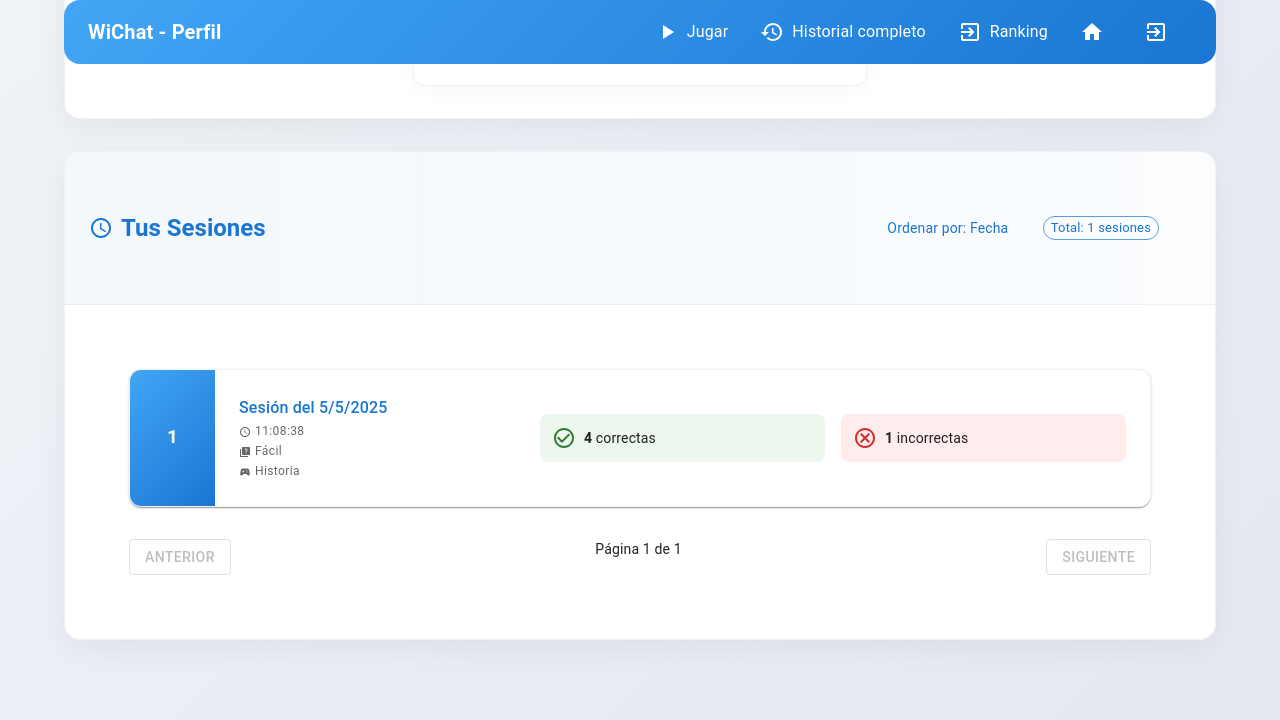
Profile Component › renders session list and details dialog
(page scrolled)
Step 1. Click the heading "Sesión del 5/5/2025" → (313,407), box 239,398 -> 387,417
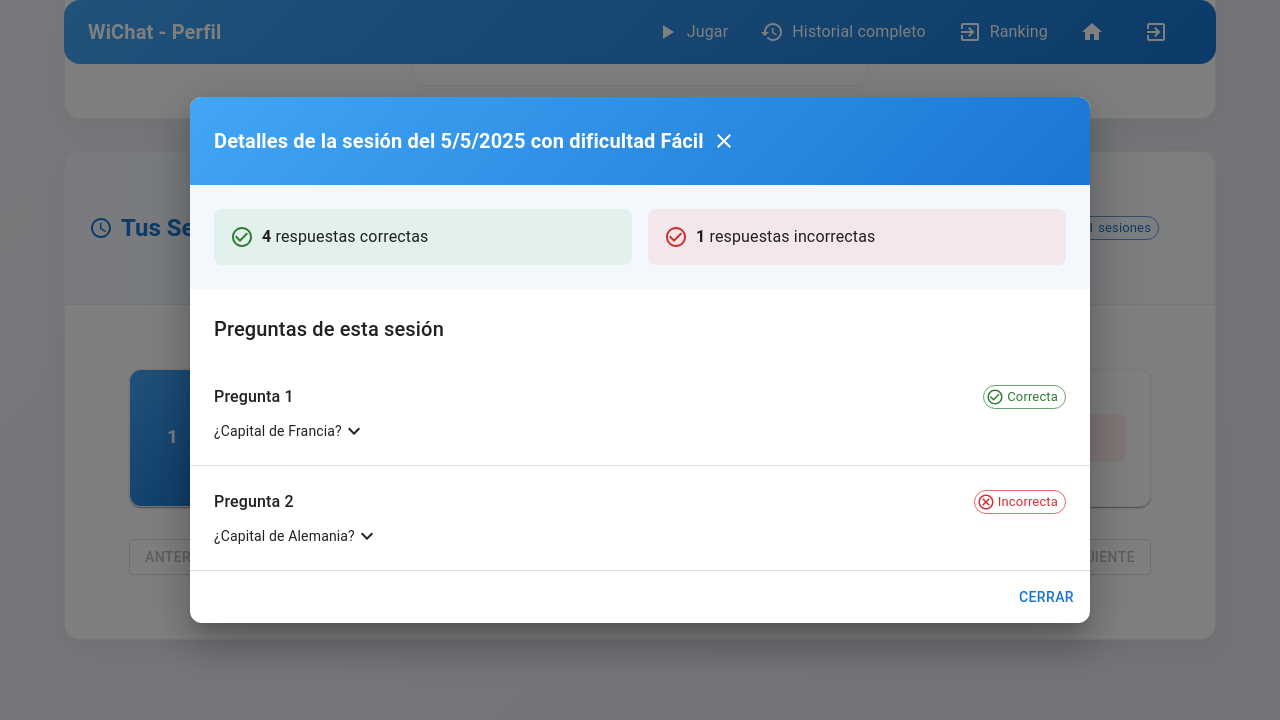
Check: the text "Detalles de la sesión del 5/5/2025 con dificultad Fácil" is shown, box 214,125 -> 704,157
Step 2. Click the heading "Pregunta 1" → (254,397), box 214,383 -> 294,411
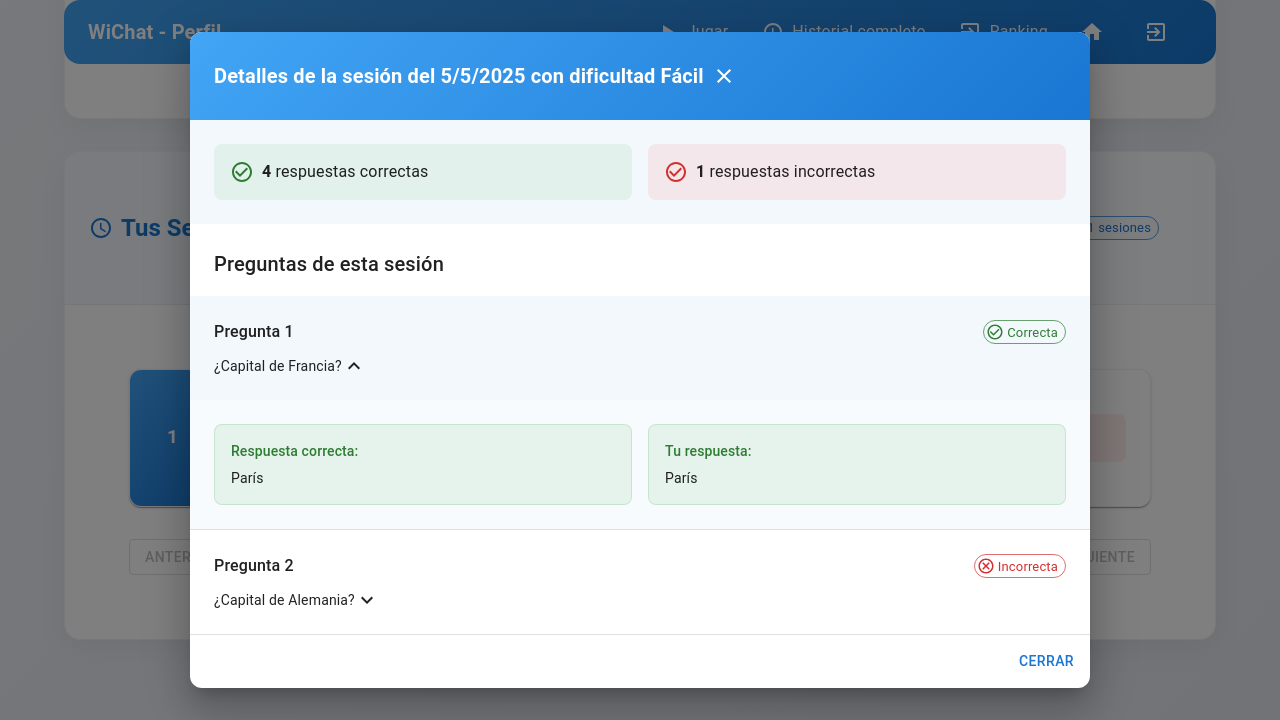
Check: the text "París" is shown 2 times, box 231,470 -> 264,486; 665,470 -> 698,486
Step 3. Click the heading "Pregunta 2" → (254,566), box 214,552 -> 294,580
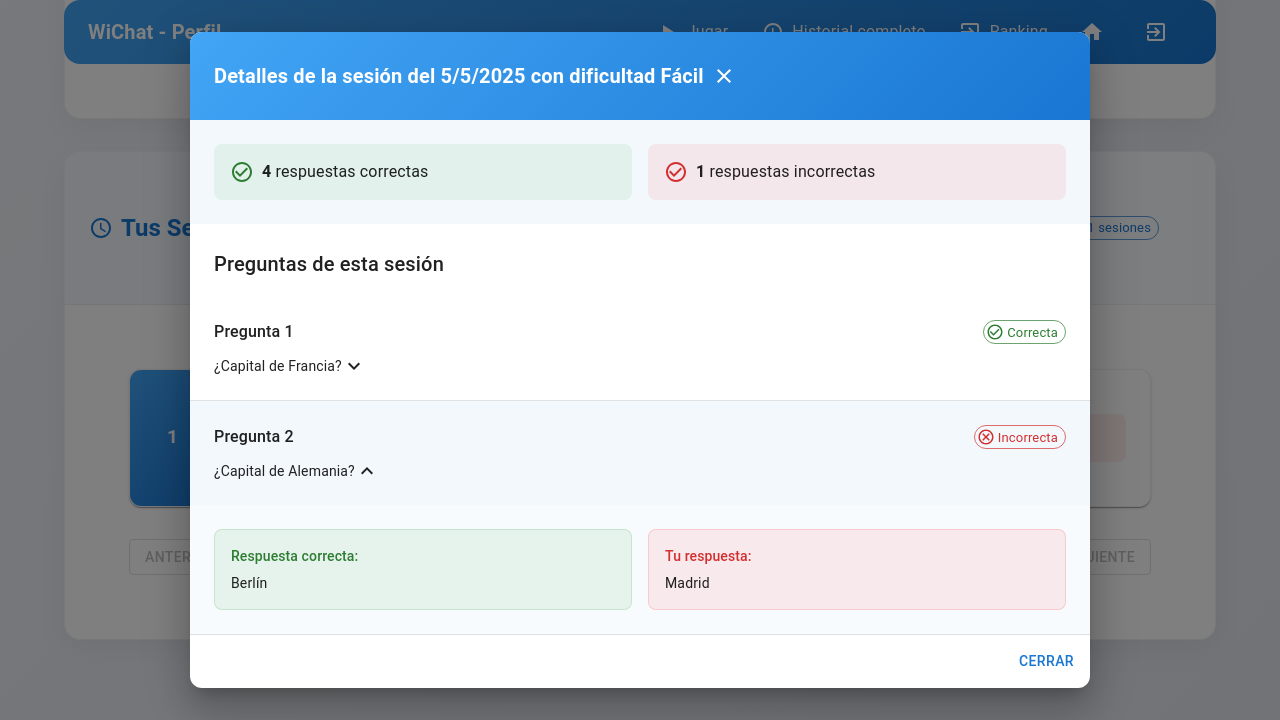
Check: the text "Berlín" is shown, box 231,575 -> 267,591
Check: the text "Madrid" is shown, box 665,575 -> 710,591
Step 4. Click the button "Cerrar" → (1046,662), box 1011,643 -> 1082,680
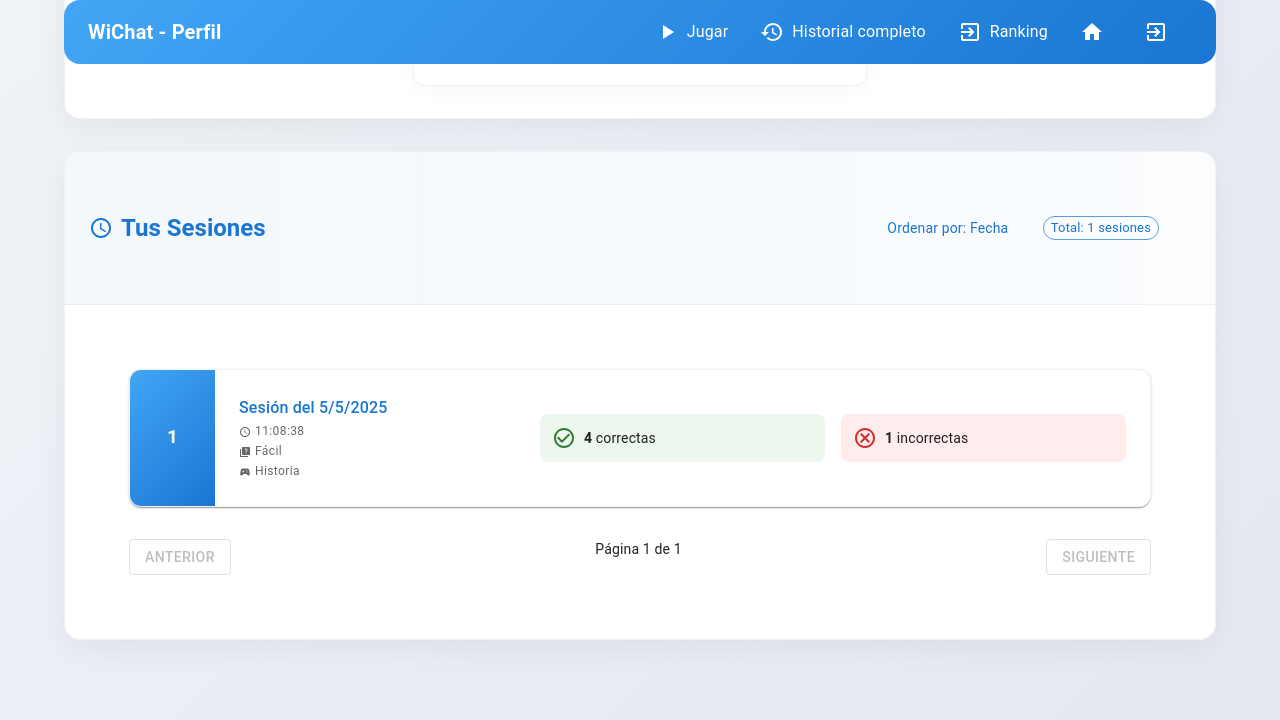
Check: the text "Detalles de la sesión" is gone
